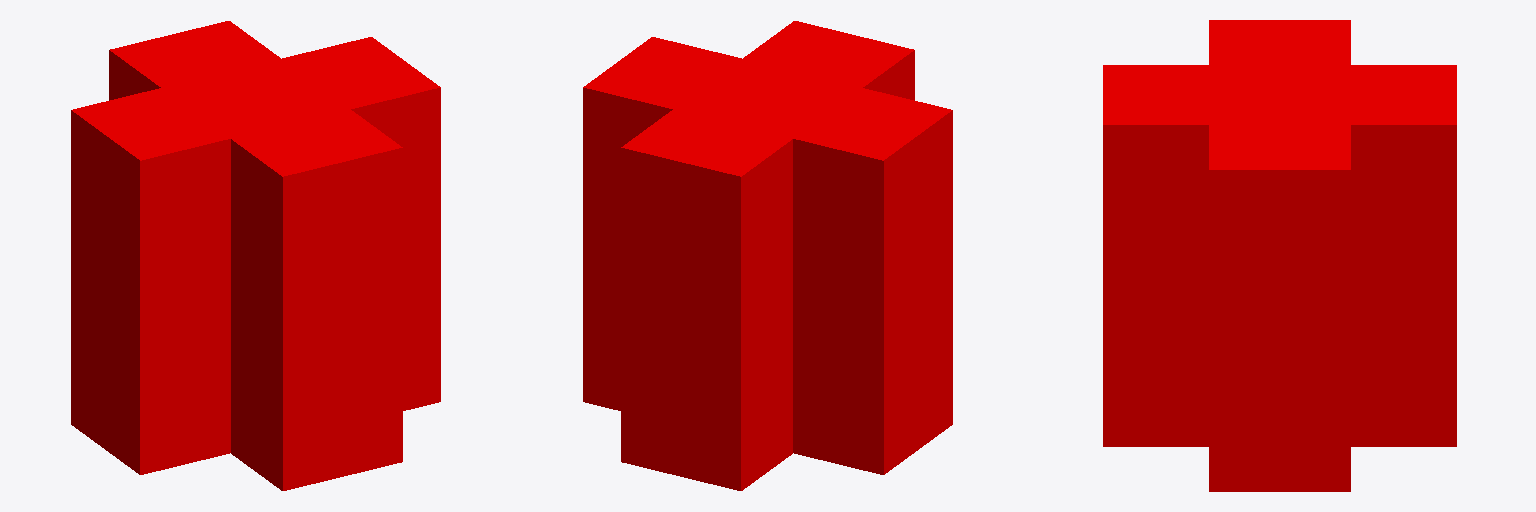
URDF robot description (plus):
<?xml version="1.0" ?>
<robot name="plus">
    <material name="red">
        <color rgba="1 0 0 1"/>
    </material>

    <!-- Horizontal Bar -->
    <link name="horizontalBar">
        <inertial>
            <origin rpy="0 0 0" xyz="0 0 0"/>
            <mass value="0.2"/>
            <inertia ixx="1" ixy="0" ixz="0" iyy="1" iyz="0" izz="1"/>
        </inertial>
        <visual>
            <origin rpy="0 0 0" xyz="0 0 0"/>
            <geometry>
                <box size="0.05 0.02 0.05"/>
            </geometry>
            <material name="red"/>
        </visual>
        <collision>
            <origin rpy="0 0 0" xyz="0 0 0"/>
            <geometry>
                <box size="0.05 0.02 0.05"/>
            </geometry>
        </collision>
    </link>

    <!-- Vertical Bar -->
    <link name="verticalBar">
        <inertial>
            <origin rpy="0 0 0" xyz="0 0 0"/>
            <mass value="0.2"/>
            <inertia ixx="1" ixy="0" ixz="0" iyy="1" iyz="0" izz="1"/>
        </inertial>
        <visual>
            <origin rpy="0 0 0" xyz="0 0 0"/>
            <geometry>
                <box size="0.02 0.05 0.05"/>
            </geometry>
            <material name="red"/>
        </visual>
        <collision>
            <origin rpy="0 0 0" xyz="0 0 0"/>
            <geometry>
                <box size="0.02 0.05 0.05"/>
            </geometry>
        </collision>
    </link>

    <!-- Joint connecting Horizontal and Vertical Bars -->
    <joint name="bar_joint" type="fixed">
        <parent link="horizontalBar"/>
        <child link="verticalBar"/>
        <origin rpy="0 0 0" xyz="0 0 0"/>
    </joint>
</robot>

--- Facts derived from the render (not from the file) ---
The picture shows the robot from 3 angles, left to right: view 1: azimuth 30°, elevation 25°; view 2: azimuth 150°, elevation 25°; view 3: azimuth 270°, elevation 25°; orthographic projection.
Robot: plus — 2 links, 1 joints (1 fixed); root link horizontalBar; default pose: all joints at 0.
Links seen in each view (by area): view 1: horizontalBar, verticalBar; view 2: horizontalBar, verticalBar; view 3: verticalBar, horizontalBar.
Link boxes in pixels (left/top/right/bottom): horizontalBar: left=71, top=37, right=440, bottom=474; verticalBar: left=109, top=21, right=402, bottom=490; horizontalBar: left=583, top=37, right=952, bottom=474; verticalBar: left=621, top=21, right=914, bottom=490; verticalBar: left=1103, top=65, right=1456, bottom=446; horizontalBar: left=1209, top=20, right=1350, bottom=491.
Size in the robot's own frame: 0.05 by 0.05 by 0.05 metres.
Geometry: primitives only (box / cylinder / sphere), no mesh files.